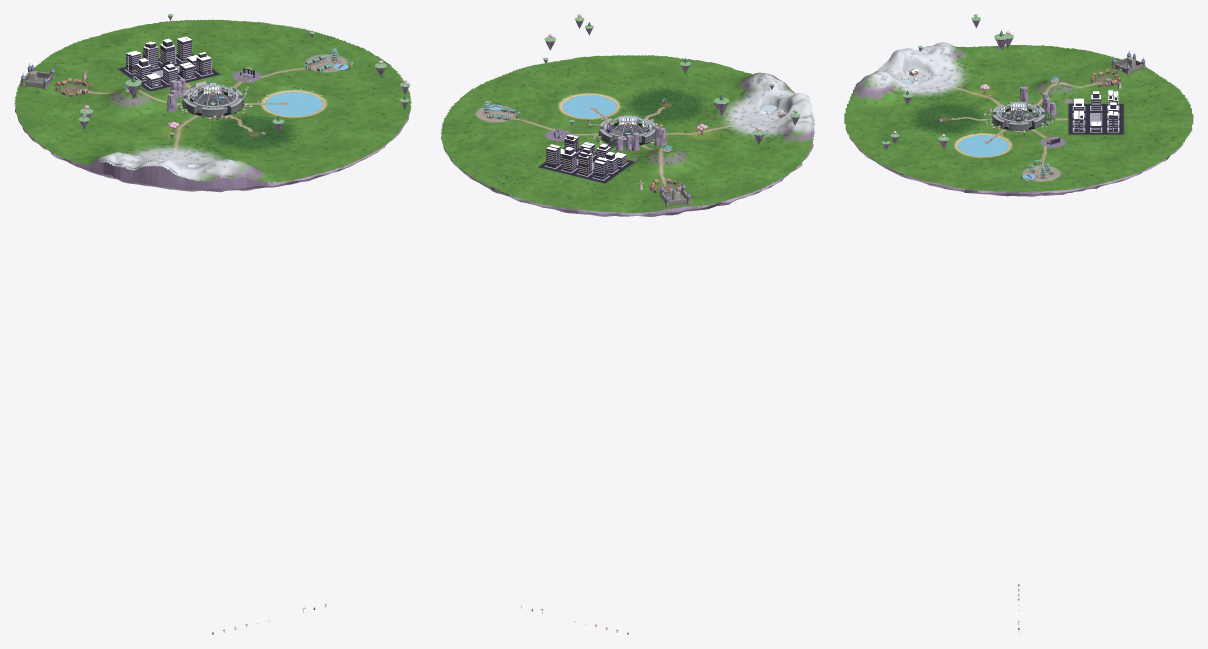
The model's file is hub.glb.
3 views of the same model, side by side, from view 1: azimuth 30°, elevation 25°; view 2: azimuth 150°, elevation 25°; view 3: azimuth 270°, elevation 25° (orthographic). The views are drawn at different scales.
Parts seen in each view (by area): view 1: Terrain, Cliff, Water_lake; view 2: Terrain, Cliff, Water_lake; view 3: Terrain, Cliff, Water_lake.
Part boxes in pixels (left/top/right/bottom): Terrain: left=14, top=19, right=411, bottom=182; Cliff: left=15, top=79, right=410, bottom=192; Water_lake: left=265, top=92, right=322, bottom=116; Terrain: left=440, top=55, right=815, bottom=213; Cliff: left=441, top=75, right=814, bottom=216; Water_lake: left=562, top=95, right=616, bottom=118; Terrain: left=844, top=42, right=1193, bottom=192; Cliff: left=846, top=43, right=1193, bottom=196; Water_lake: left=958, top=135, right=1008, bottom=156.
Size of the model in its own units: 610 by 1000 by 610.
